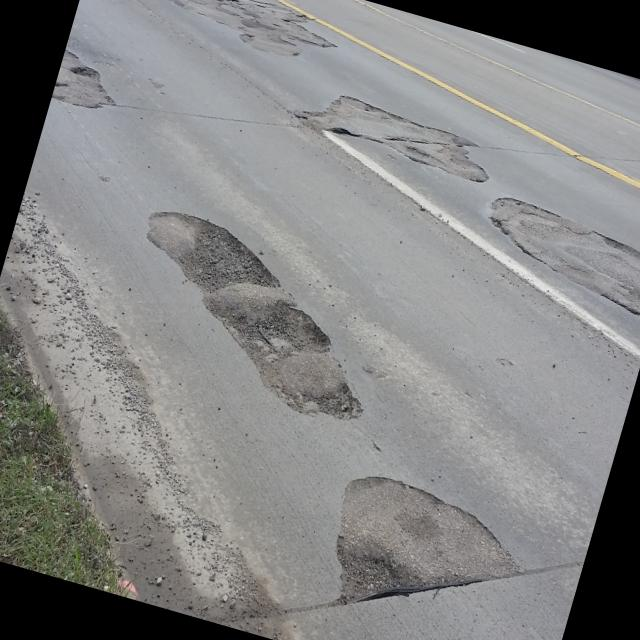Potholes: (108, 150, 420, 462), (295, 452, 551, 640), (453, 161, 640, 372), (286, 65, 502, 206), (80, 0, 348, 103), (47, 49, 154, 138)
